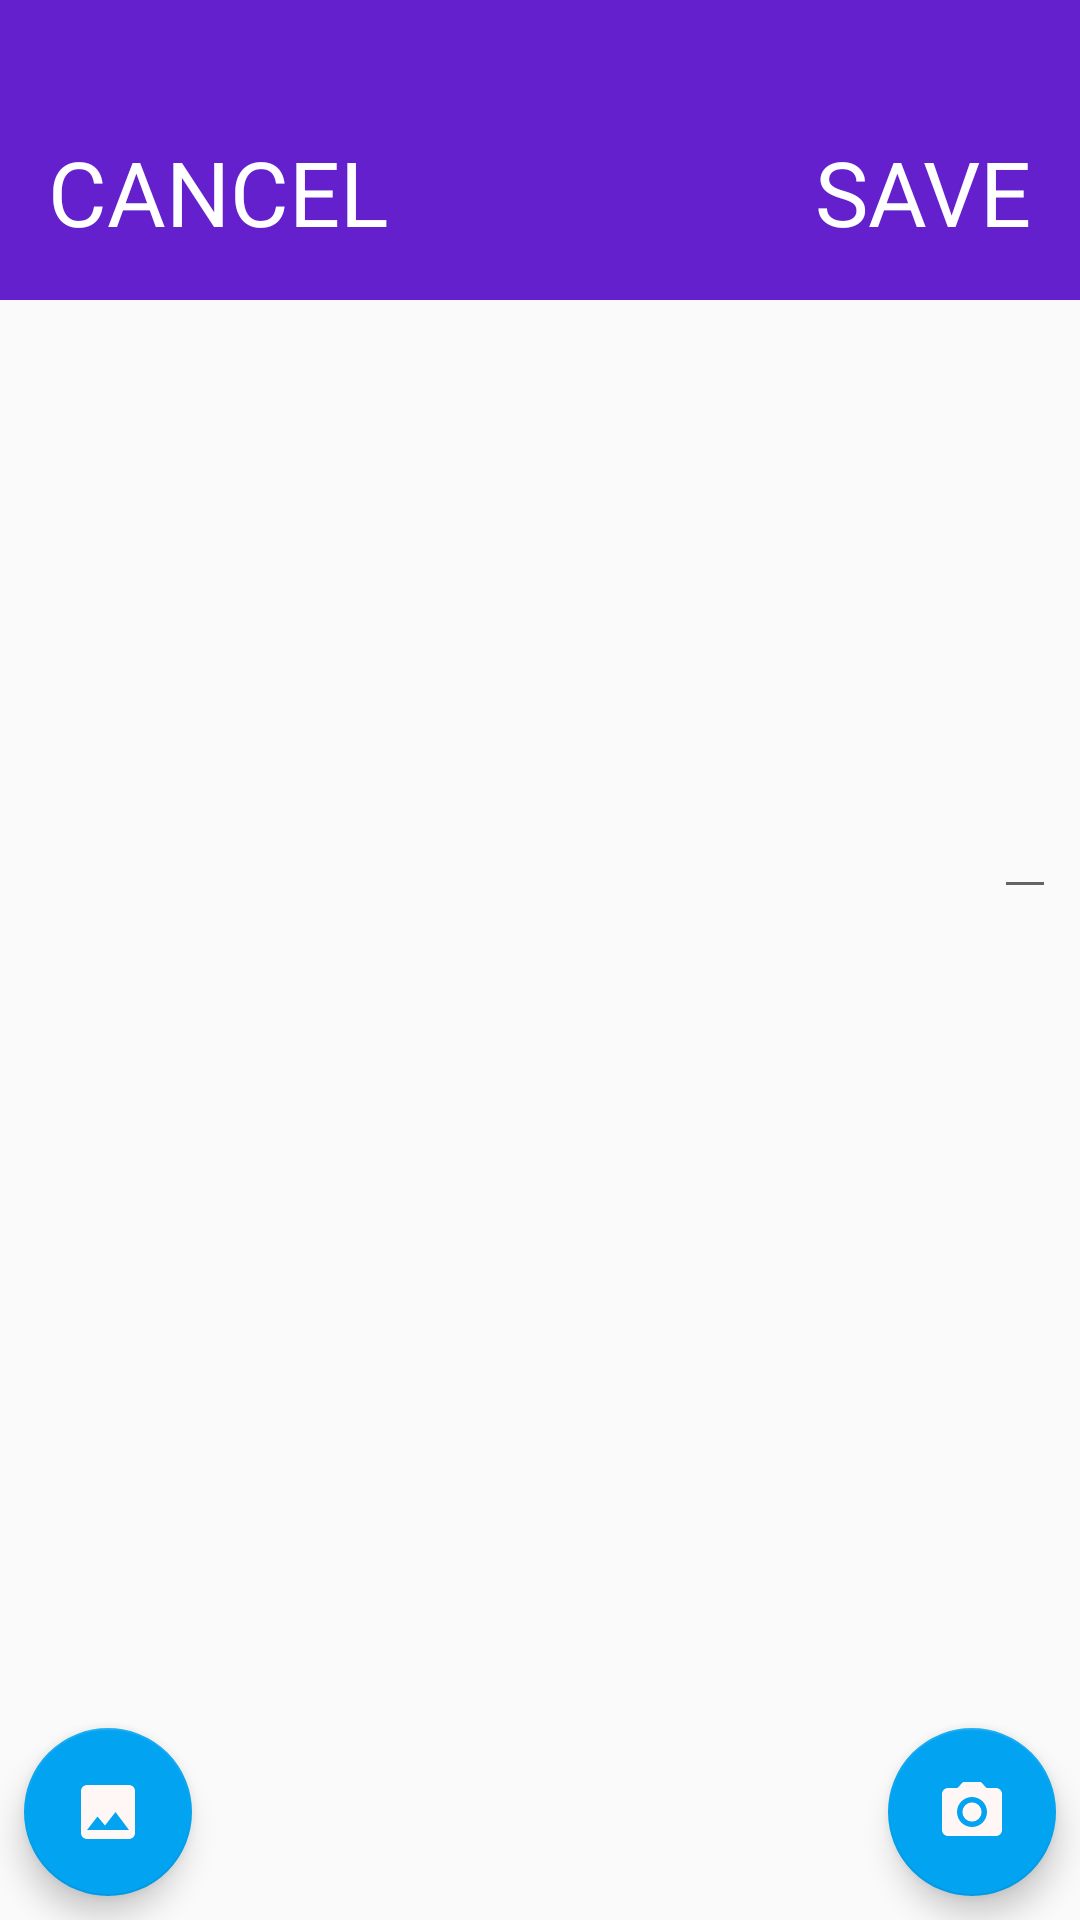

Where icons sit on this 1080×1920 app screen, as (x1, y1, x2, y2):
camera: (888, 1728, 1056, 1896)
insert photo: (24, 1728, 192, 1896)
